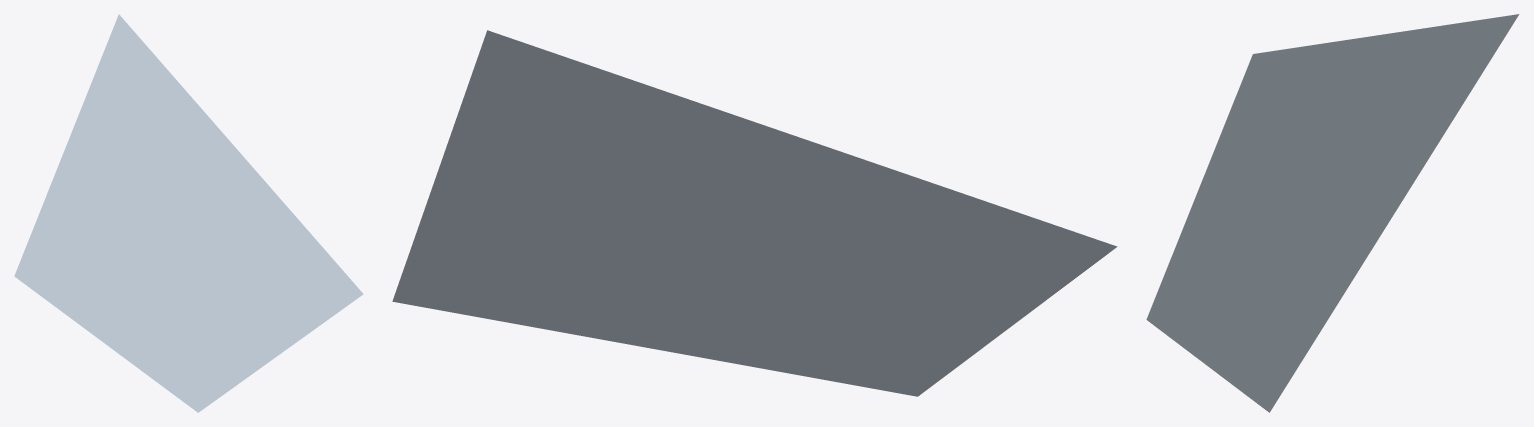
The model's file is palmar-lunotriquetral-ligament-r.glb.
The picture shows the model from 3 angles, left to right: view 1: azimuth 30°, elevation 25°; view 2: azimuth 150°, elevation 25°; view 3: azimuth 270°, elevation 25°; orthographic projection. The views are drawn at different scales.
Visible parts, largest first — view 1: Palmar lunotriquetral ligament.r; view 2: Palmar lunotriquetral ligament.r; view 3: Palmar lunotriquetral ligament.r.
Boxes of the visible parts, bbox=[...] form: Palmar lunotriquetral ligament.r: bbox=[14, 14, 363, 412]; Palmar lunotriquetral ligament.r: bbox=[392, 30, 1117, 396]; Palmar lunotriquetral ligament.r: bbox=[1146, 14, 1519, 412].
Size of the model in its own units: 0.00416 by 0.00306 by 0.00298.
